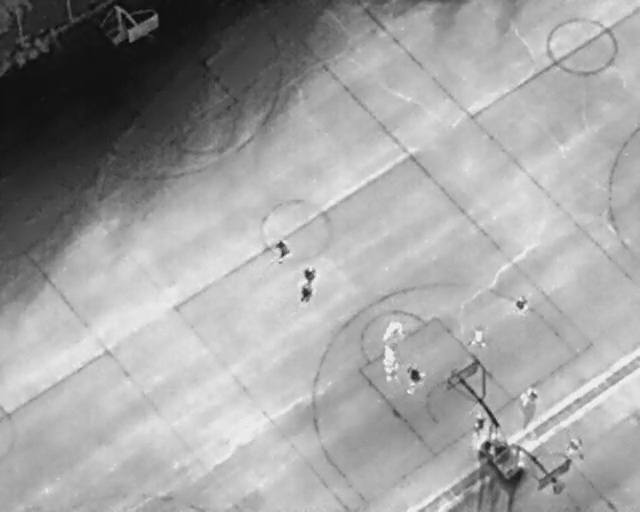Person: (383, 345, 398, 381), (409, 365, 427, 394), (383, 320, 406, 342), (472, 324, 487, 350), (523, 384, 539, 407), (569, 436, 583, 457), (278, 239, 290, 263), (301, 280, 312, 305), (474, 412, 485, 435), (515, 294, 528, 313), (303, 264, 315, 282)
